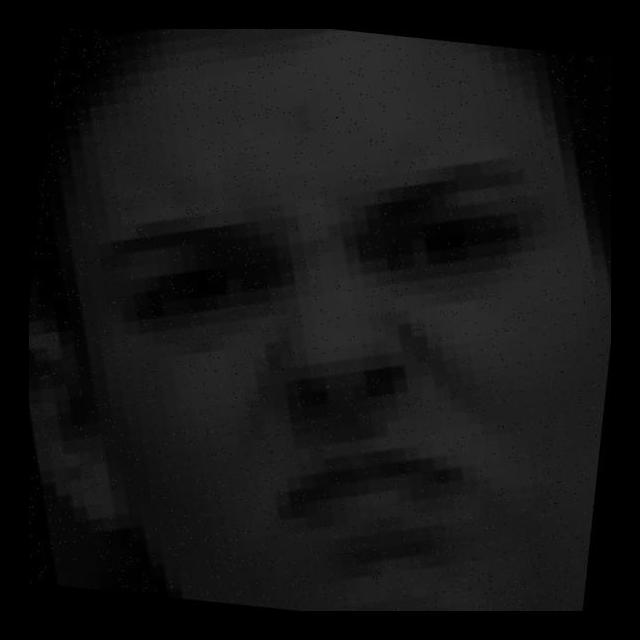Disgust: (64, 122, 575, 582)
